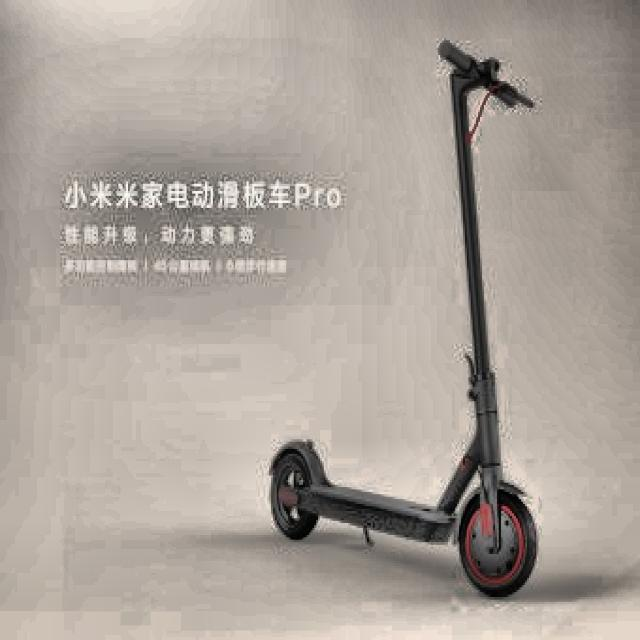bike: (263, 38, 545, 599)
